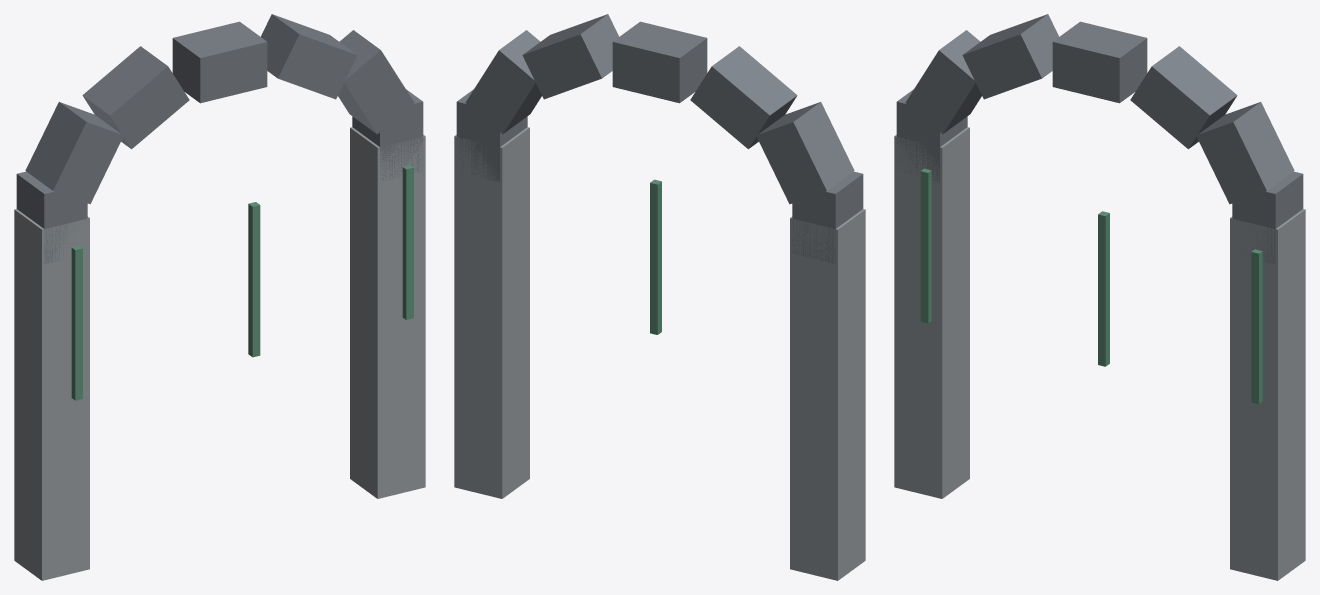
The model's file is Arch.fbx.
3 renders of one model, left to right at view 1: azimuth 30°, elevation 25°; view 2: azimuth 150°, elevation 25°; view 3: azimuth 330°, elevation 25°, orthographic.
Visible parts, largest first — view 1: Body; view 2: Body; view 3: Body.
Boxes of the visible parts, x1=… form: Body: x1=14, y1=14, x2=425, y2=580; Body: x1=454, y1=14, x2=865, y2=580; Body: x1=894, y1=14, x2=1305, y2=580.
Size of the model in its own units: 8 by 9.65 by 1.13.
